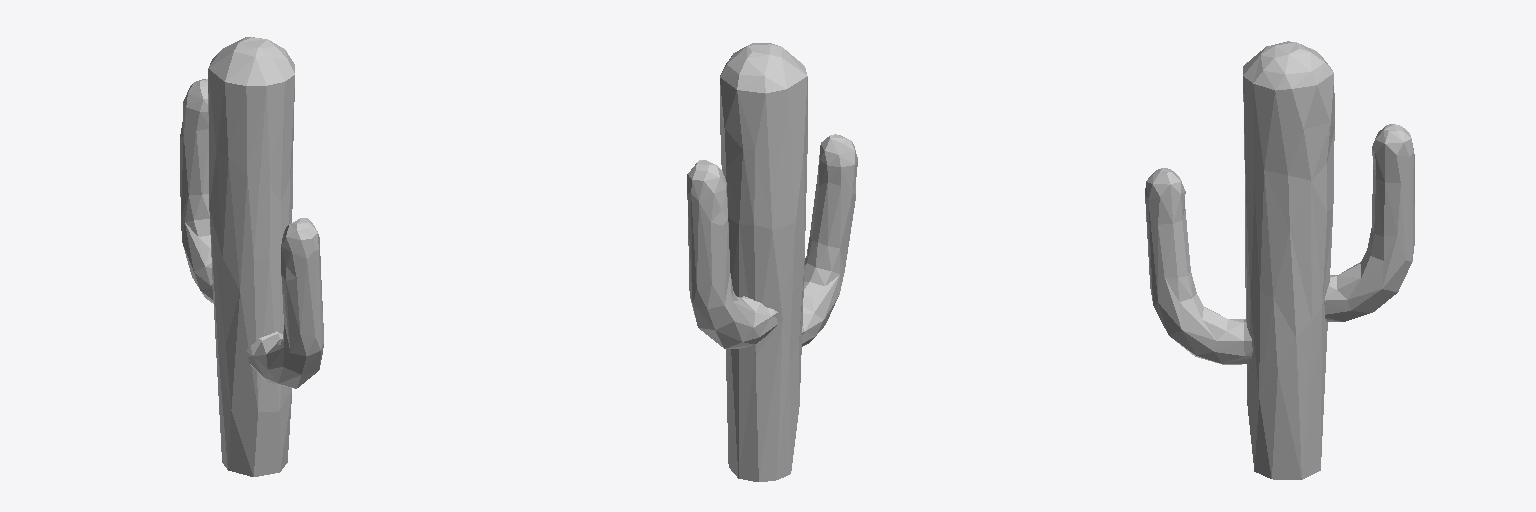
Rendered from Cactus06.obj.
3 views of the same model, side by side, from view 1: azimuth 30°, elevation 25°; view 2: azimuth 150°, elevation 25°; view 3: azimuth 270°, elevation 25° (orthographic).
Visible parts, largest first — view 1: Cylinder, Cylinder.001_Cylinder.004, Cylinder.002; view 2: Cylinder, Cylinder.002, Cylinder.001_Cylinder.004; view 3: Cylinder, Cylinder.001_Cylinder.004, Cylinder.002.
Boxes of the visible parts, box(x1,y1,x2,y2) form: Cylinder: box(208, 37, 294, 476); Cylinder.001_Cylinder.004: box(246, 218, 323, 388); Cylinder.002: box(180, 79, 213, 303); Cylinder: box(720, 43, 807, 481); Cylinder.002: box(687, 160, 777, 348); Cylinder.001_Cylinder.004: box(802, 134, 857, 346); Cylinder: box(1243, 41, 1334, 479); Cylinder.001_Cylinder.004: box(1145, 168, 1252, 364); Cylinder.002: box(1324, 124, 1414, 321).
Size of the model in its own units: 0.6122 by 3.28 by 1.91.